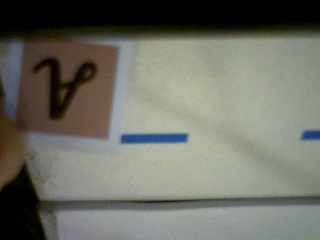A: (13, 34, 118, 142)
